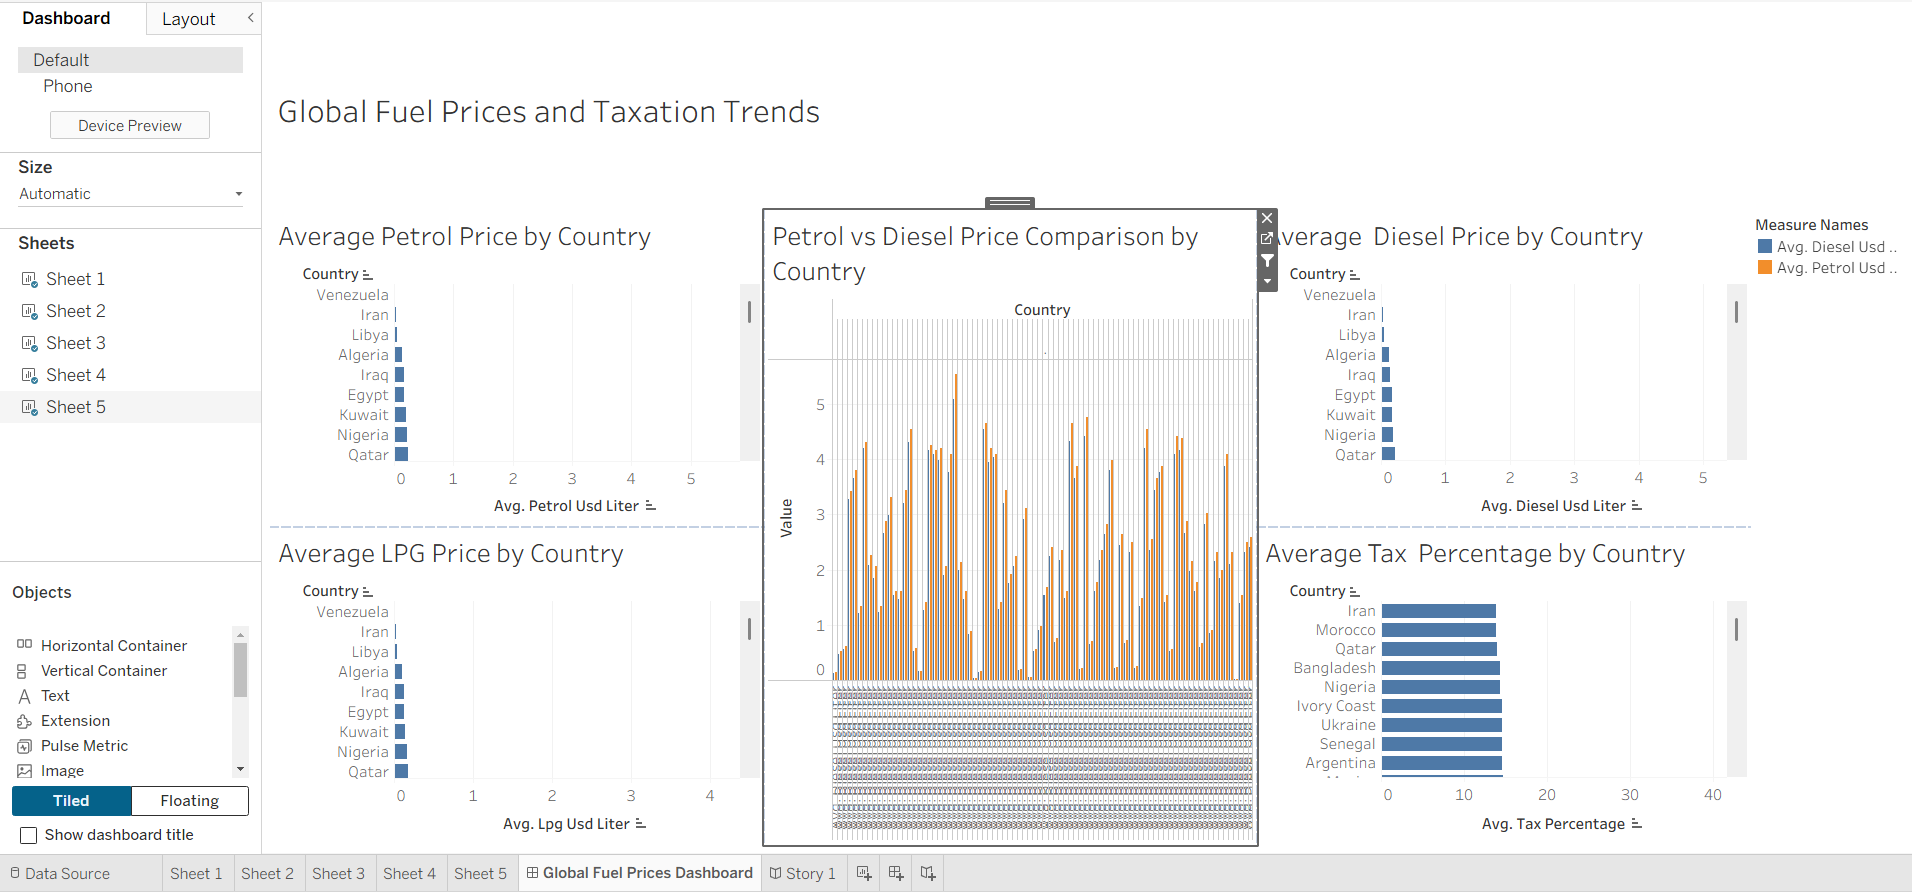

This screenshot's page, from the dashboard's own definition file:
{"tool":"tableau","page":{"name":"Dashboard 2","canvas":[1000,1000],"units":"permille","ordinal":1},"visuals":[{"type":"title","box":[4.7,9.4,990.6,54.1]},{"type":"worksheet","title":"Sheet 2","mark":"Bar","cols":["country"],"box":[4.7,63.5,448.3,463.5]},{"type":"worksheet","title":"Sheet 6","mark":"Automatic","rows":["income_level"],"cols":["petrol_usd_liter"],"box":[453,63.5,448.3,463.5]},{"type":"legend","title":"Sheet 2","param":"[federated.1ghlpjt1925vhr1ag47kb05fxxwa].[:Measure Names]","box":[901.4,63.5,94,84.6]},{"type":"filter","title":"Sheet 2","param":"[federated.1ghlpjt1925vhr1ag47kb05fxxwa].[none:country:nk]","box":[901.4,148.1,94,842.5]},{"type":"worksheet","title":"Sheet 7","mark":"Automatic","rows":["income_level"],"cols":["diesel_usd_liter"],"box":[4.7,527,448.3,463.6]},{"type":"worksheet","title":"Sheet 14","mark":"Bar","rows":["country"],"cols":["lpg_usd_liter"],"box":[453,527,448.3,463.6]}]}

Visuals, with their boxes on the dashboard's canvas, which has no fixed pixel size, in thousandths of its width and height (x1, y1, x2, y2). These are canvas units, not pixel positions in the 1912x892 screenshot, which may show the page scaled, cropped or inside an application window:
title: pyautogui.locateOnScreen(5, 9, 995, 64)
"Sheet 2" worksheet (Bar marks): pyautogui.locateOnScreen(5, 64, 453, 527)
"Sheet 6" worksheet: pyautogui.locateOnScreen(453, 64, 901, 527)
"Sheet 2" legend: pyautogui.locateOnScreen(901, 64, 995, 148)
"Sheet 2" filter: pyautogui.locateOnScreen(901, 148, 995, 991)
"Sheet 7" worksheet: pyautogui.locateOnScreen(5, 527, 453, 991)
"Sheet 14" worksheet (Bar marks): pyautogui.locateOnScreen(453, 527, 901, 991)
